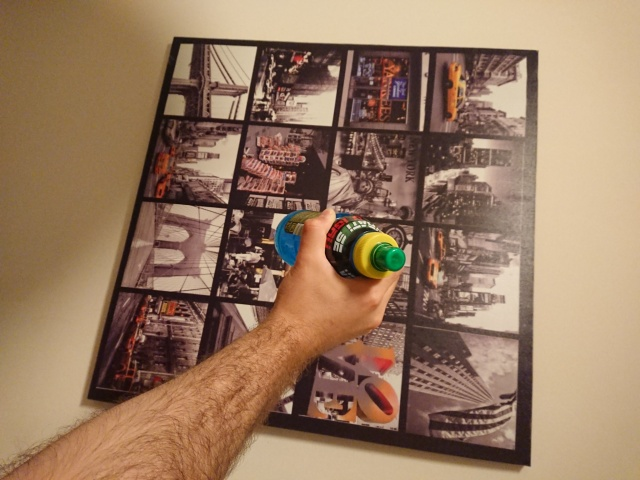Vindi Iso Sport Forest Strawberries 500mL: (272, 207, 406, 282)
